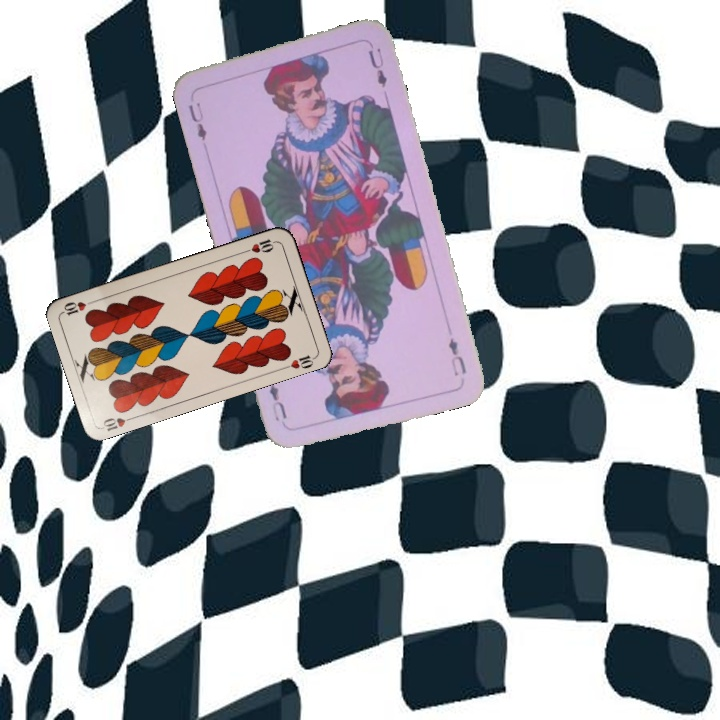EU: (184, 98, 210, 143), (444, 333, 469, 378)
H10: (239, 234, 279, 256), (98, 412, 138, 433)
